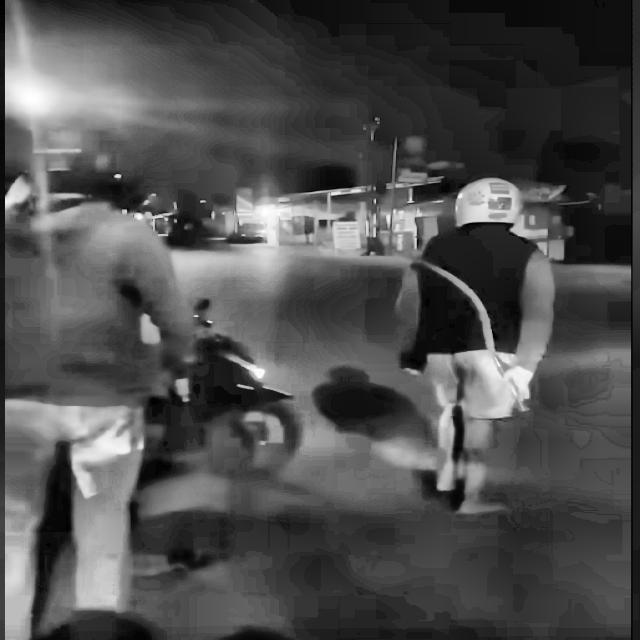celurit: (371, 247, 542, 418)
